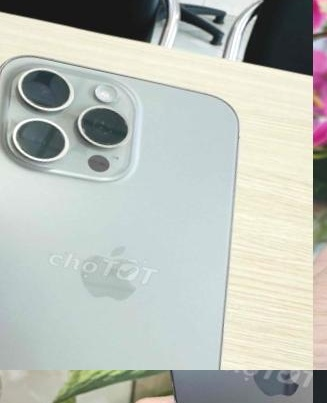scratch: (0, 57, 145, 181)
